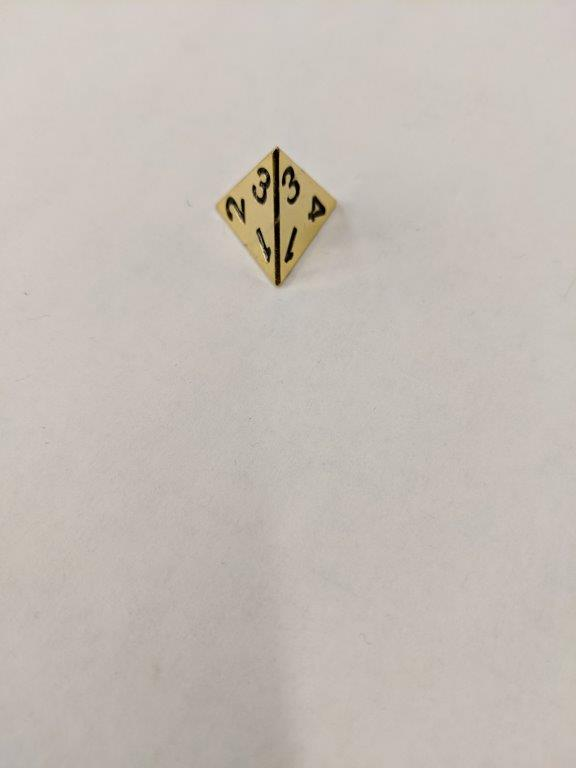d4-3: (212, 147, 340, 288)
